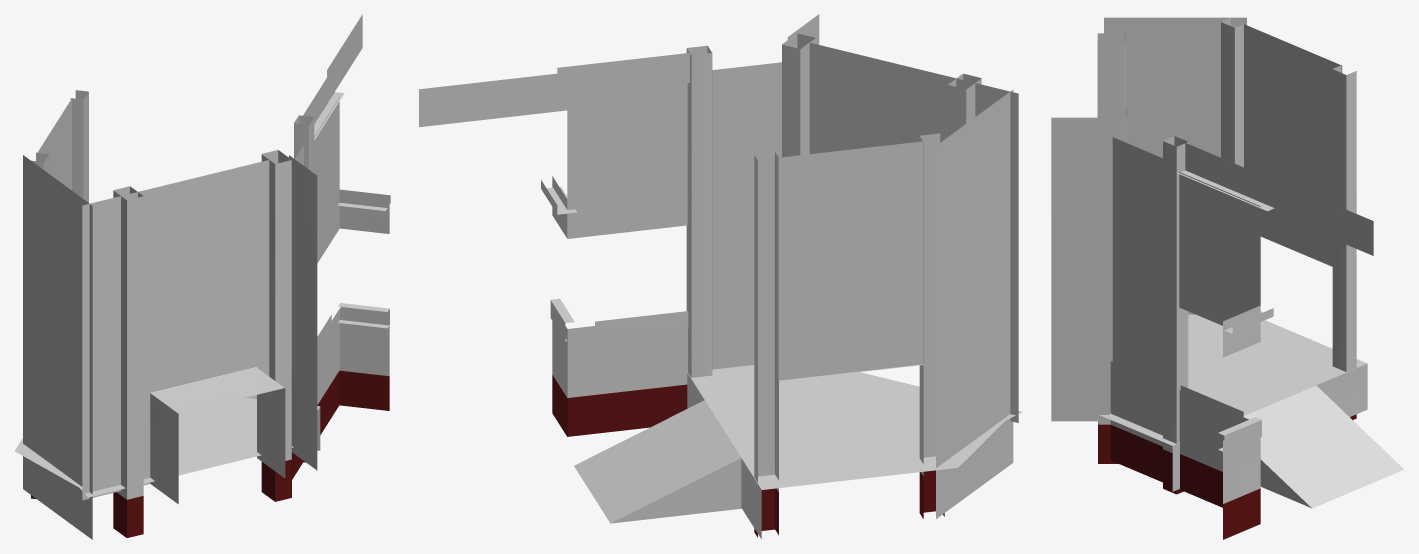
The model's file is SM_H_Building_Tide_Jail_Monitor_01g_ATLAS.fbx.
The picture shows the model from 3 angles, left to right: view 1: azimuth 30°, elevation 25°; view 2: azimuth 150°, elevation 25°; view 3: azimuth 270°, elevation 25°; orthographic projection. The views are drawn at different scales.
Parts seen in each view (by area): view 1: SM_H_Building_Tide_Jail_Monitor_01g_ATLAS; view 2: SM_H_Building_Tide_Jail_Monitor_01g_ATLAS; view 3: SM_H_Building_Tide_Jail_Monitor_01g_ATLAS.
Part boxes in pixels (left/top/right/bottom): SM_H_Building_Tide_Jail_Monitor_01g_ATLAS: left=15, top=14, right=390, bottom=539; SM_H_Building_Tide_Jail_Monitor_01g_ATLAS: left=419, top=14, right=1022, bottom=538; SM_H_Building_Tide_Jail_Monitor_01g_ATLAS: left=1051, top=17, right=1403, bottom=539.
Size of the model in its own units: 2316 by 1657 by 1803.
